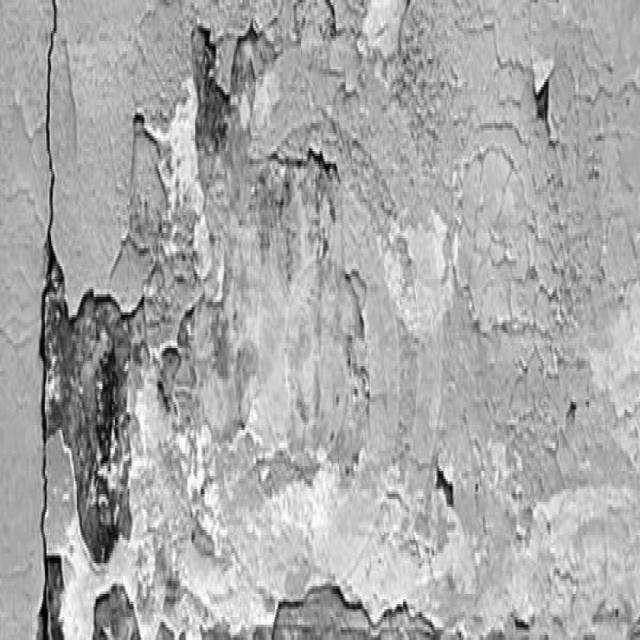Water_Leakage: (10, 15, 637, 640)
